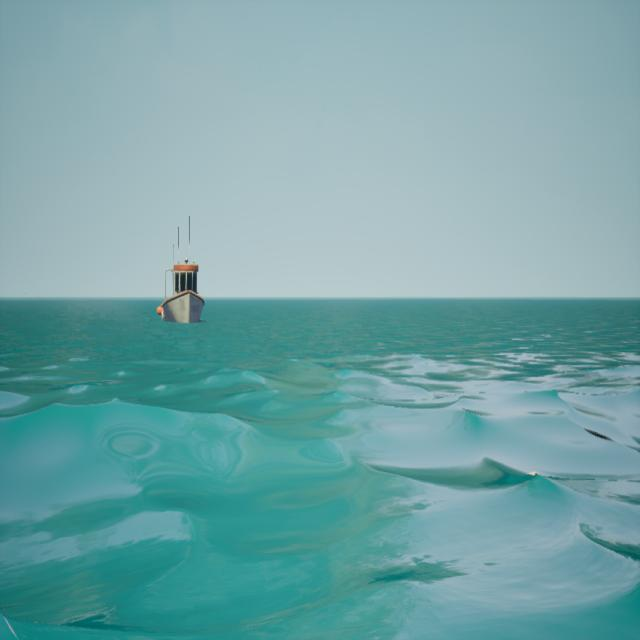ship: (146, 203, 214, 334)
